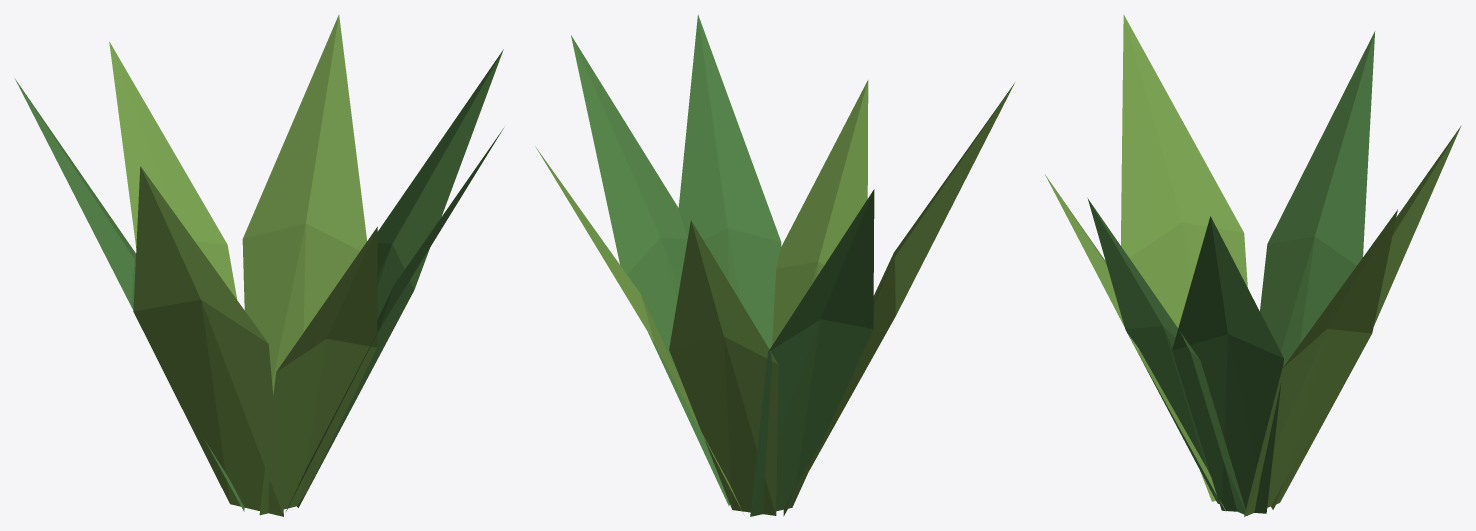
Rendered from grass_clump_medium_01.glb.
3 renders of one model, left to right at view 1: azimuth 30°, elevation 25°; view 2: azimuth 150°, elevation 25°; view 3: azimuth 270°, elevation 25°, orthographic. The views are drawn at different scales.
Visible parts, largest first — view 1: grass_clump_medium_01; view 2: grass_clump_medium_01; view 3: grass_clump_medium_01.
Boxes of the visible parts, x1=… form: grass_clump_medium_01: x1=15, y1=14, x2=503, y2=516; grass_clump_medium_01: x1=535, y1=14, x2=1014, y2=516; grass_clump_medium_01: x1=1045, y1=14, x2=1461, y2=516.
Size of the model in its own units: 0.4267 by 0.43 by 0.4057.
